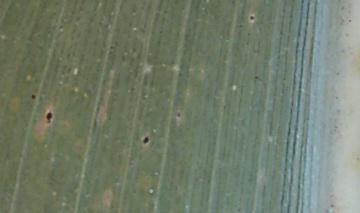tarspot: (45, 110, 53, 123), (175, 111, 182, 119), (143, 136, 149, 144), (30, 94, 37, 100), (253, 74, 259, 81), (249, 15, 254, 22)
